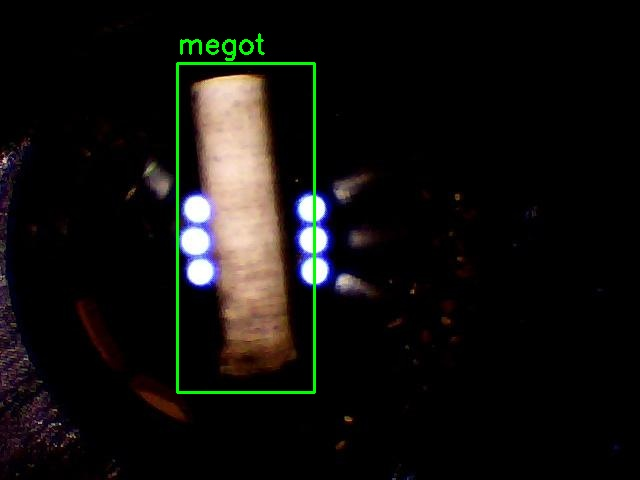megot: (177, 63, 314, 392)
